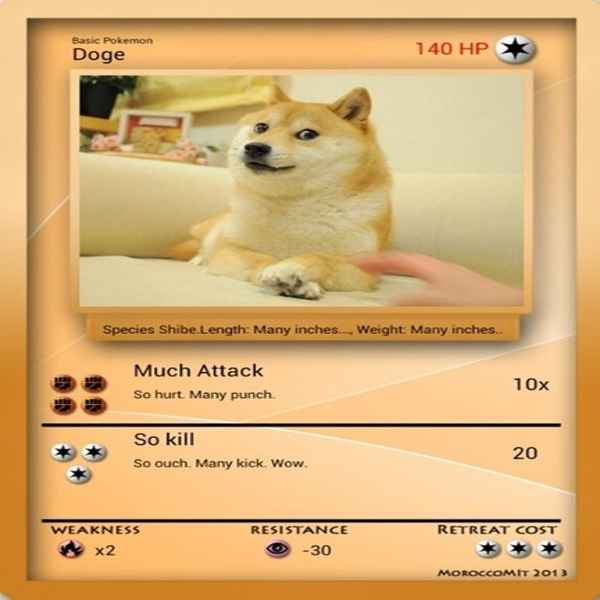doge: (229, 80, 381, 196)
